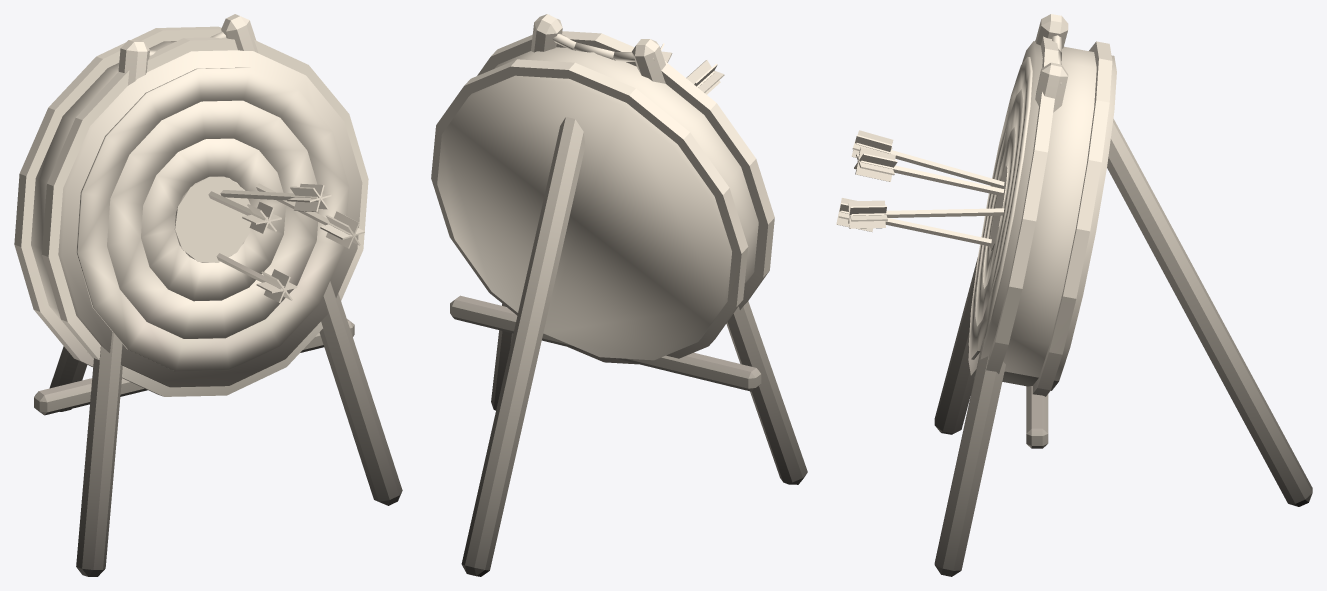
Rendered from SM_VK_Prop_ArcheryButt.fbx.
3 renders of one model, left to right at view 1: azimuth 30°, elevation 25°; view 2: azimuth 150°, elevation 25°; view 3: azimuth 270°, elevation 25°, orthographic. The views are drawn at different scales.
Visible parts, largest first — view 1: SM_VK_Prop_ArcheryButt.001; view 2: SM_VK_Prop_ArcheryButt.001; view 3: SM_VK_Prop_ArcheryButt.001.
Boxes of the visible parts, x1,y1,x2,y2 form: SM_VK_Prop_ArcheryButt.001: (14, 14, 402, 576); SM_VK_Prop_ArcheryButt.001: (431, 14, 807, 576); SM_VK_Prop_ArcheryButt.001: (836, 14, 1312, 576).
Bounding box in the file's own units: 1.33 × 1.87 × 1.73.
